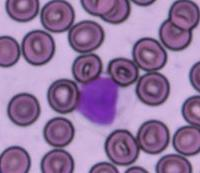M: (74, 74, 134, 128)
